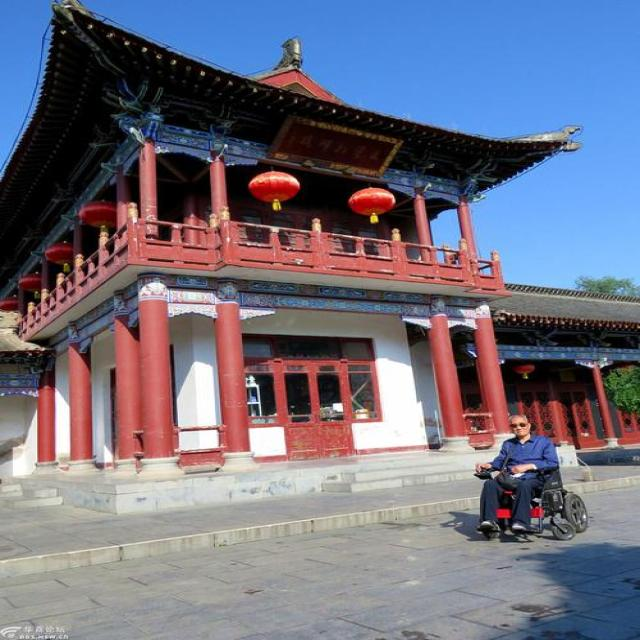wheelchairs: (470, 452, 603, 552)
